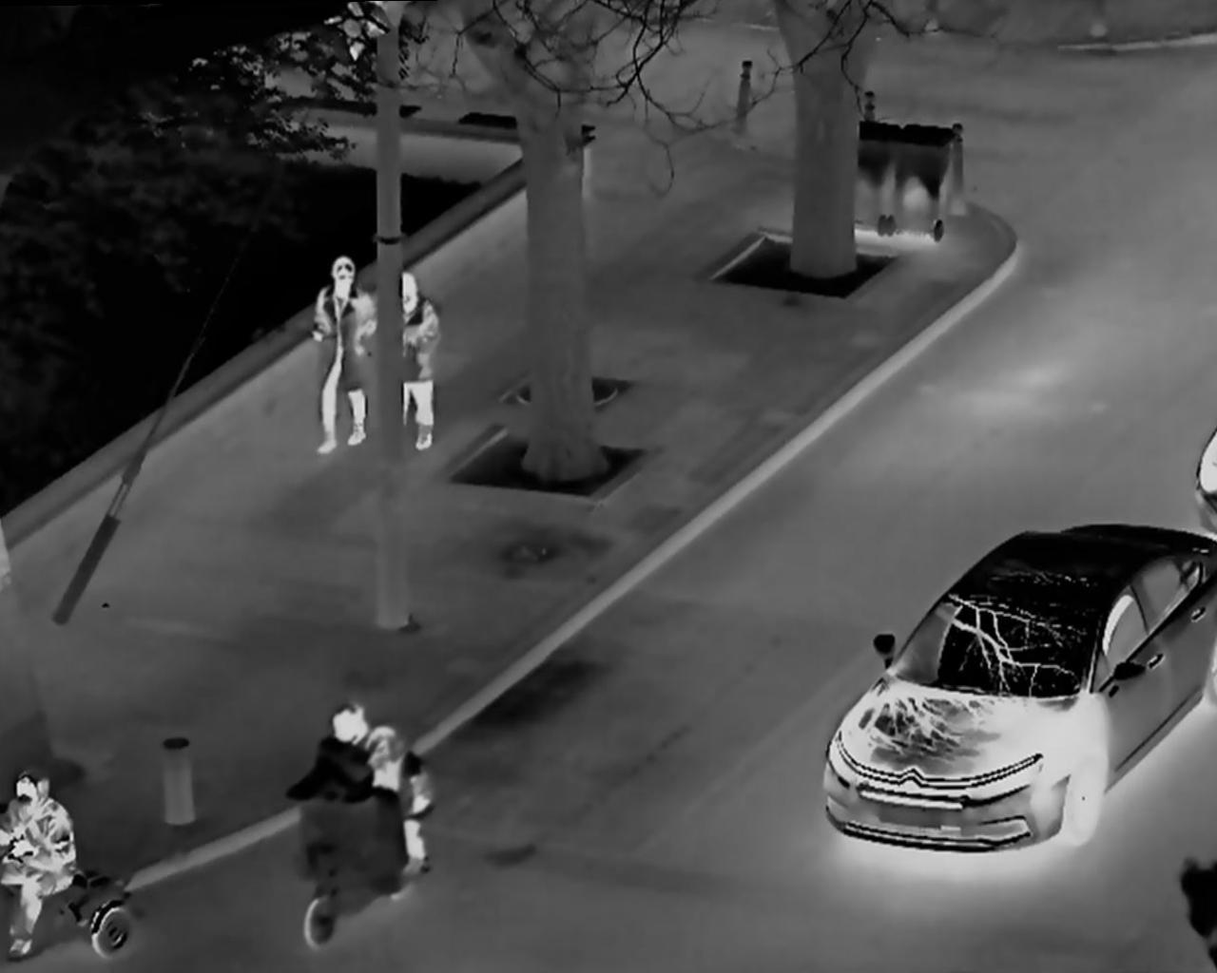person: (305, 688, 406, 901), (4, 768, 92, 963), (307, 227, 370, 487), (385, 258, 451, 461)
